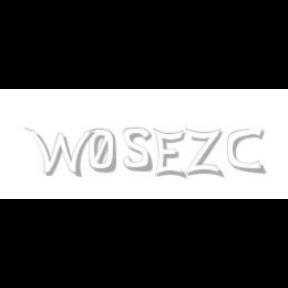0: (88, 128, 120, 174)
C: (228, 128, 264, 174)
E: (153, 128, 186, 180)
S: (122, 128, 154, 172)
W: (24, 128, 96, 178)
Z: (186, 128, 222, 178)
